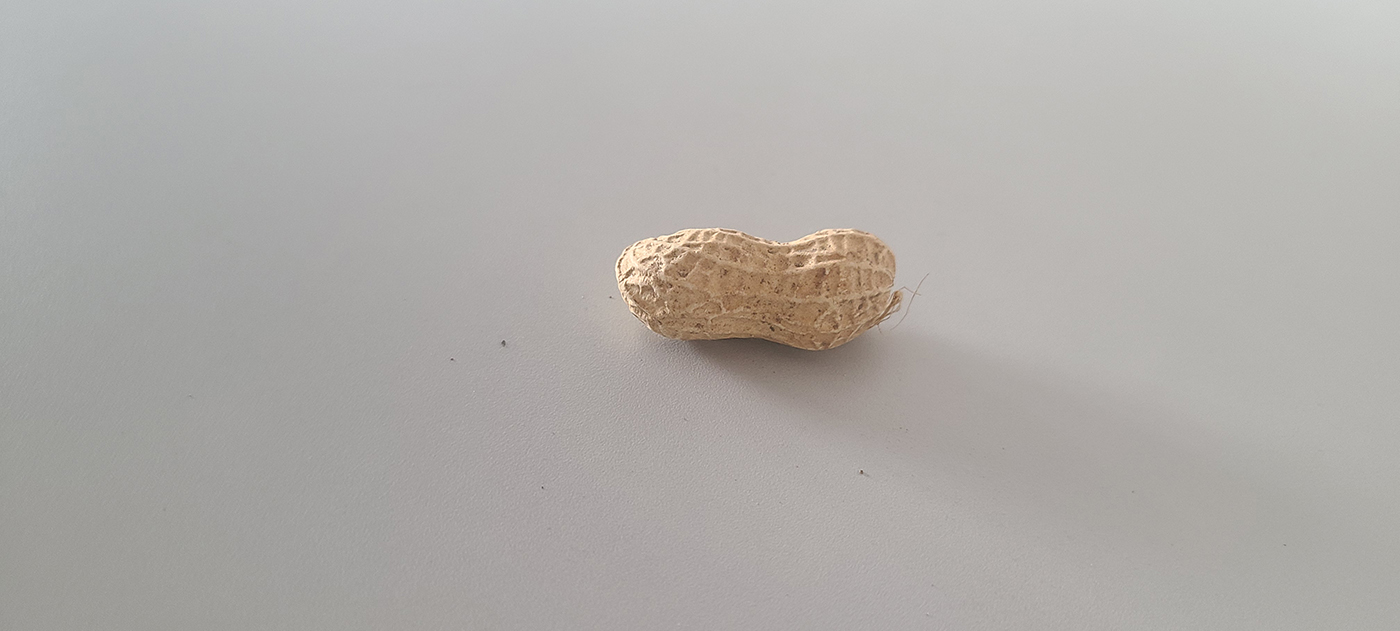h: (614, 224, 901, 352)
